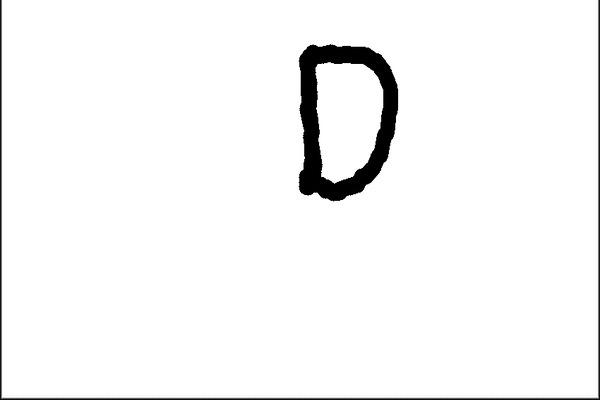D: (287, 40, 404, 206)
